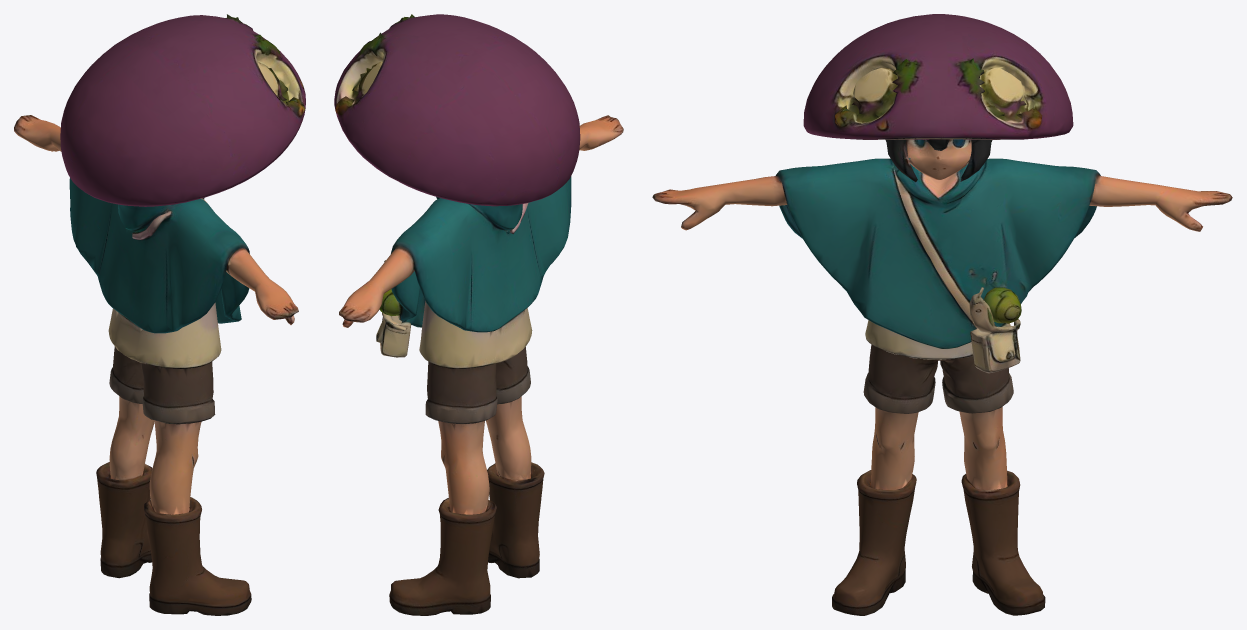
Rendered from n2_listener.ac139c41.glb.
3 renders of one model, left to right at view 1: azimuth 30°, elevation 25°; view 2: azimuth 150°, elevation 25°; view 3: azimuth 270°, elevation 25°, orthographic. The views are drawn at different scales.
Visible parts, largest first — view 1: tripo_node_3ca87365-bdb6-42ae-823a-a85f1de4f56e; view 2: tripo_node_3ca87365-bdb6-42ae-823a-a85f1de4f56e; view 3: tripo_node_3ca87365-bdb6-42ae-823a-a85f1de4f56e.
Boxes of the visible parts, <box> form: tripo_node_3ca87365-bdb6-42ae-823a-a85f1de4f56e: <box>14,14,305,615</box>; tripo_node_3ca87365-bdb6-42ae-823a-a85f1de4f56e: <box>334,14,623,615</box>; tripo_node_3ca87365-bdb6-42ae-823a-a85f1de4f56e: <box>652,14,1232,615</box>.
Bounding box in the file's own units: 0.4024 × 1 × 0.8987.
1 material, 1 textured.
